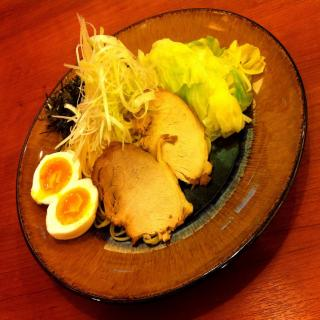Egg: (30, 150, 99, 239)
